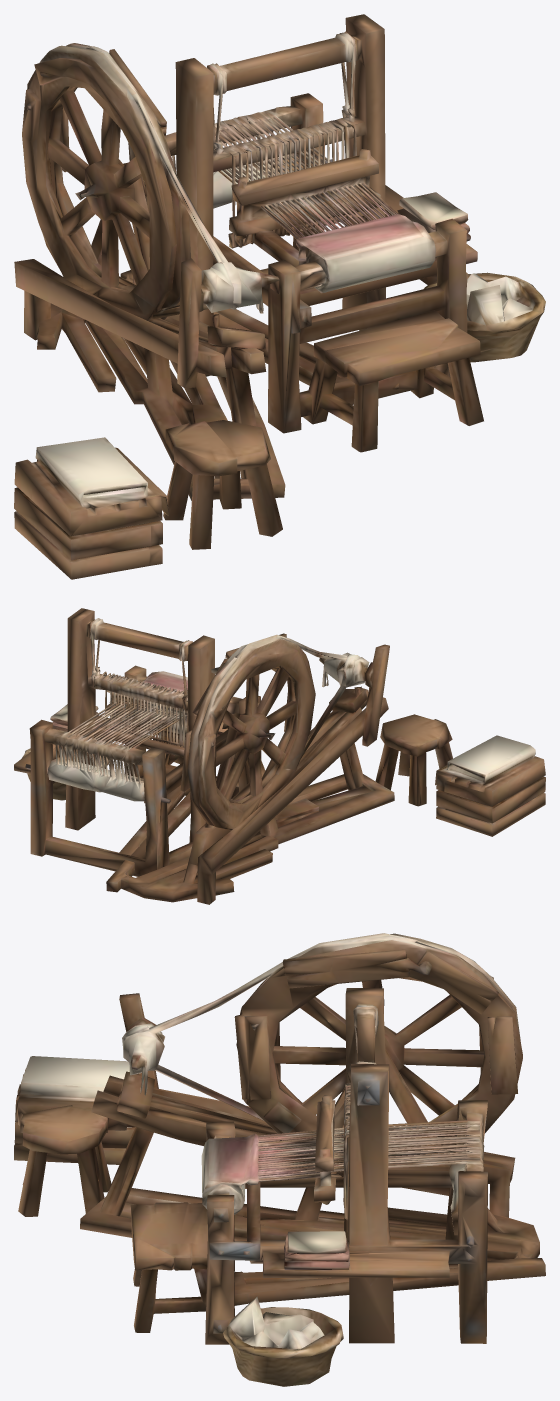
File: zhibu-2.glb
3 renders of one model, top to bottom at view 1: azimuth 30°, elevation 25°; view 2: azimuth 150°, elevation 25°; view 3: azimuth 270°, elevation 25°, orthographic. The views are drawn at different scales.
Parts seen in each view (by area): view 1: node_0; view 2: node_0; view 3: node_0.
Boxes of the visible parts, left/top/right/bottom form: node_0: left=14, top=14, right=545, bottom=579; node_0: left=14, top=608, right=545, bottom=904; node_0: left=14, top=933, right=545, bottom=1386.
Size of the model in its own units: 0.8729 by 0.4497 by 0.7329.
Materials: 1 (1 with a texture image).
